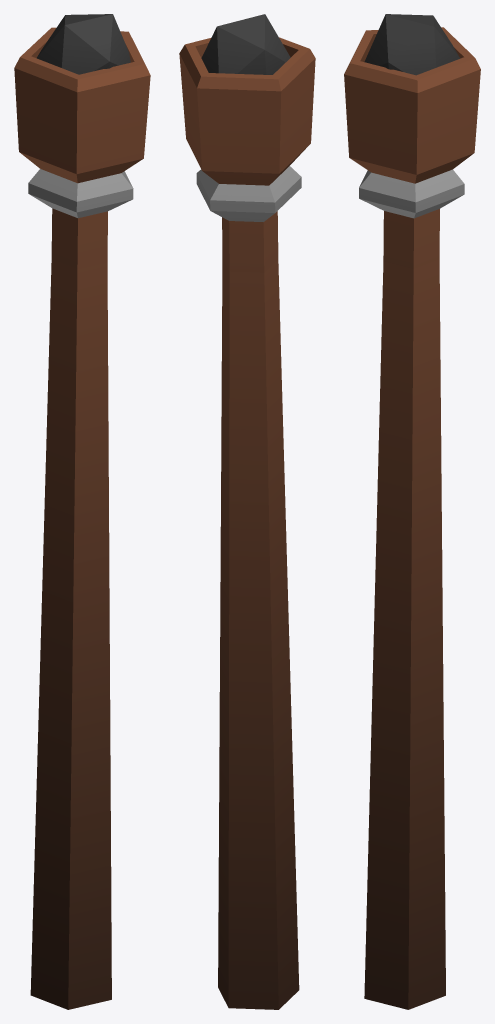
The model's file is firetorch.fbx.
The picture shows the model from 3 angles, left to right: view 1: azimuth 30°, elevation 25°; view 2: azimuth 210°, elevation 25°; view 3: azimuth 330°, elevation 25°; orthographic projection.
Parts seen in each view (by area): view 1: FireTorch; view 2: FireTorch; view 3: FireTorch.
Part boxes in pixels (bbox=[...]): FireTorch: bbox=[14, 14, 150, 1009]; FireTorch: bbox=[179, 14, 315, 1009]; FireTorch: bbox=[344, 14, 480, 1009].
Size of the model in its own units: 17.73 by 139 by 16.86.
